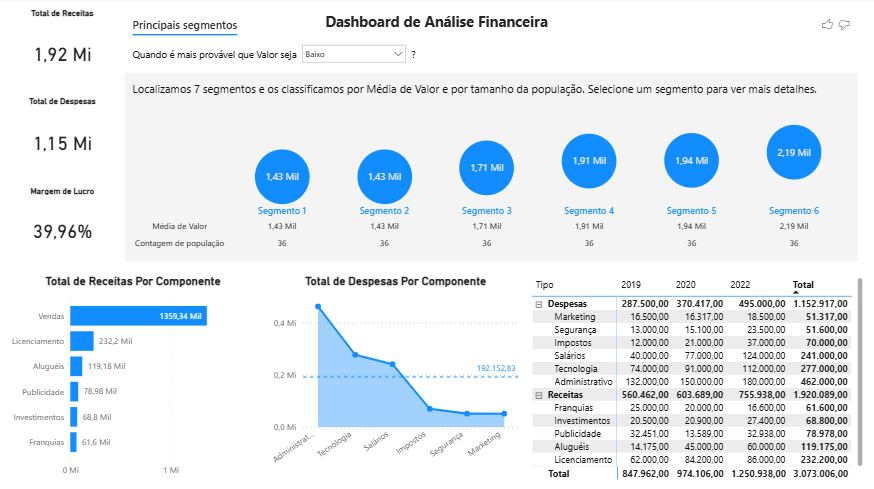

The page's visual inventory and layout, read from the dashboard file:
{"tool":"powerbi","page":{"name":"Dashboard","canvas":[1280,720],"ordinal":0},"visuals":[{"type":"card","title":"Total de  Receitas","fields":{"Values":["Medidas.TotalReceitas"]},"box":[6.2,16.1,171,119],"z":1000},{"type":"card","title":"Total de Despesas","fields":{"Values":["Medidas.TotalDespesas"]},"box":[6.2,145,171,122.7],"z":2000},{"type":"card","title":"Margem de Lucro","fields":{"Values":["Medidas.Margem de Lucro"]},"box":[6.2,276.4,171,117.7],"z":3000},{"type":"clusteredBarChart","title":"Total de Receitas Por Componente","fields":{"Category":["DadosFinanceiros.Componente"],"Y":["Medidas.TotalReceitas"]},"box":[5.5,405.3,377.9,305],"z":4000},{"type":"areaChart","title":"Total de Despesas Por Componente","fields":{"Category":["DadosFinanceiros.Componente"],"Y":["Medidas.TotalDespesas"]},"box":[394.4,405.3,371,305],"z":5000},{"type":"pivotTable","fields":{"Rows":["DadosFinanceiros.Tipo","DadosFinanceiros.Componente"],"Values":["Sum(DadosFinanceiros.Valor)"],"Columns":["DadosFinanceiros.Data.Variation.Hierarquia de datas.Ano"]},"box":[774.7,404.7,494,305.9],"z":6000},{"type":"keyDriversVisual","fields":{"ExplainBy":["DadosFinanceiros.Componente","DadosFinanceiros.Tipo"],"Target":["DadosFinanceiros.Valor"]},"box":[177.1,16.1,1082.9,376.1],"z":7000},{"type":"textbox","box":[446.3,16.1,384.9,43.9],"z":8000}]}

Visuals, with their boxes in screenshot pixels (x1, y1, x2, y2), scaled from the page's 1280x720 canvas onto the 874x489 screenshot:
"Total de  Receitas" card: {"left": 4, "top": 11, "right": 121, "bottom": 92}
"Total de Despesas" card: {"left": 4, "top": 98, "right": 121, "bottom": 182}
"Margem de Lucro" card: {"left": 4, "top": 188, "right": 121, "bottom": 268}
"Total de Receitas Por Componente" clusteredBarChart: {"left": 4, "top": 275, "right": 262, "bottom": 482}
"Total de Despesas Por Componente" areaChart: {"left": 269, "top": 275, "right": 523, "bottom": 482}
pivotTable - DadosFinanceiros.Tipo x DadosFinanceiros.Componente: {"left": 529, "top": 275, "right": 866, "bottom": 483}
keyDriversVisual - DadosFinanceiros.Componente x DadosFinanceiros.Tipo: {"left": 121, "top": 11, "right": 860, "bottom": 266}
textbox: {"left": 305, "top": 11, "right": 568, "bottom": 41}
